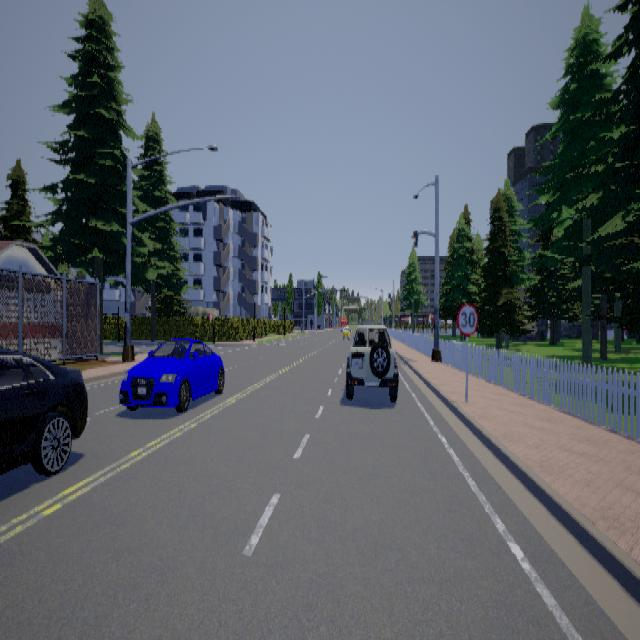traffic_light: (412, 229, 417, 246)
traffic_sign: (456, 302, 477, 335)
vehicle: (0, 345, 89, 475), (118, 337, 224, 411), (339, 316, 398, 401)
